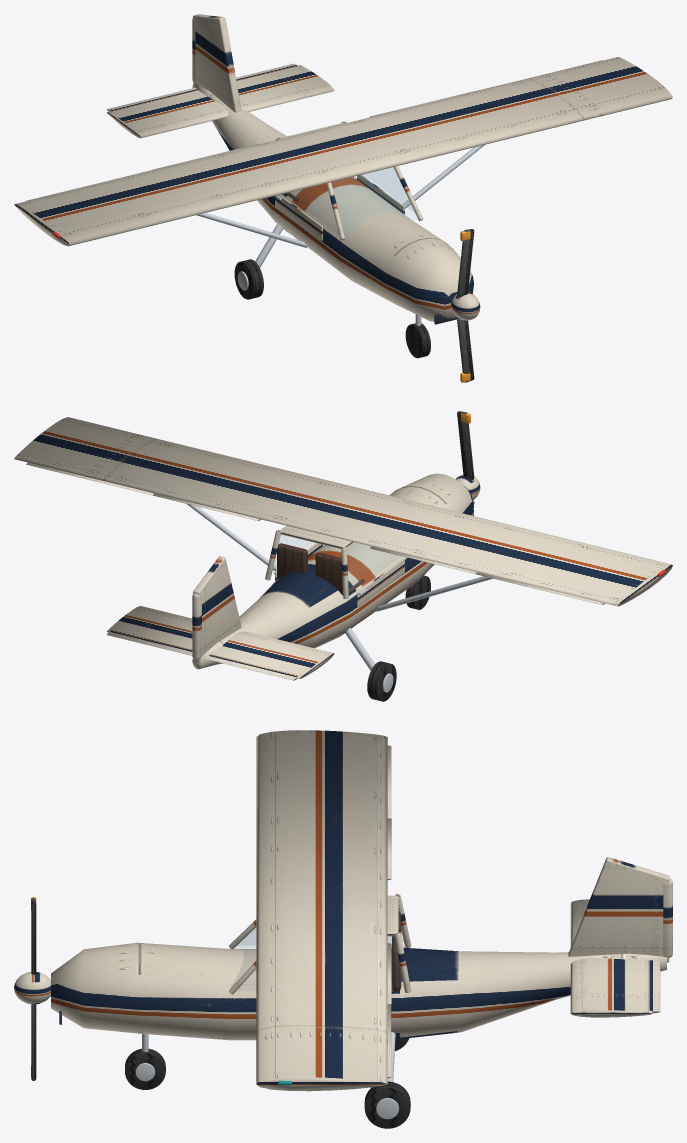
The model's file is aircraft.glb.
3 views of the same model, one above another, from view 1: azimuth 30°, elevation 25°; view 2: azimuth 150°, elevation 25°; view 3: azimuth 270°, elevation 25° (orthographic). The views are drawn at different scales.
Visible parts, largest first — view 1: High wing airfoil, Formed fuselage aluminium, Horizontal stabilizer, Cabin front glazing, Vertical tail fin, Cabin side glazing, Main tire, Elevator, Door lower skin, Nose tire, Propeller blade.001, Propeller blade (+2 smaller); view 2: High wing airfoil, Formed fuselage aluminium, Horizontal stabilizer, Vertical tail fin, Elevator, Cabin side glazing, Leather pilot back.001, Main tire, Leather pilot back, Door lower skin, Cabin roof, Propeller blade.001 (+4 smaller); view 3: High wing airfoil, Formed fuselage aluminium, Vertical tail fin, Horizontal stabilizer, Main tire.001, Nose tire, Propeller spinner, Elevator, Rudder, Cabin front glazing.
Part boxes in pixels (bbox=[...]): High wing airfoil: bbox=[14, 57, 672, 246]; Formed fuselage aluminium: bbox=[192, 83, 473, 321]; Horizontal stabilizer: bbox=[107, 65, 334, 138]; Cabin front glazing: bbox=[332, 168, 417, 236]; Vertical tail fin: bbox=[193, 14, 241, 112]; Cabin side glazing: bbox=[286, 184, 338, 234]; Main tire: bbox=[234, 259, 263, 299]; Elevator: bbox=[106, 63, 298, 112]; Door lower skin: bbox=[275, 195, 322, 240]; Nose tire: bbox=[405, 323, 430, 358]; Propeller blade.001: bbox=[457, 229, 474, 297]; Propeller blade: bbox=[457, 318, 474, 382]; High wing airfoil: bbox=[14, 417, 672, 606]; Formed fuselage aluminium: bbox=[192, 473, 473, 669]; Horizontal stabilizer: bbox=[107, 606, 334, 678]; Vertical tail fin: bbox=[193, 556, 241, 663]; Elevator: bbox=[106, 629, 298, 680]; Cabin side glazing: bbox=[347, 543, 400, 591]; Leather pilot back.001: bbox=[277, 543, 307, 579]; Main tire: bbox=[367, 661, 396, 701]; Leather pilot back: bbox=[315, 553, 343, 595]; Door lower skin: bbox=[357, 558, 404, 607]; Cabin roof: bbox=[279, 525, 353, 548]; Propeller blade.001: bbox=[457, 411, 474, 479]; High wing airfoil: bbox=[256, 730, 387, 1091]; Formed fuselage aluminium: bbox=[51, 942, 666, 1040]; Vertical tail fin: bbox=[568, 857, 669, 962]; Horizontal stabilizer: bbox=[570, 899, 652, 1017]; Main tire.001: bbox=[364, 1081, 410, 1128]; Nose tire: bbox=[125, 1048, 165, 1089]; Propeller spinner: bbox=[14, 972, 50, 1004]; Elevator: bbox=[645, 960, 660, 1013]; Rudder: bbox=[663, 878, 672, 957]; Cabin front glazing: bbox=[231, 925, 255, 986].
Size of the model in its own units: 10.08 by 3.08 by 8.02.
10 materials, 5 textured.
